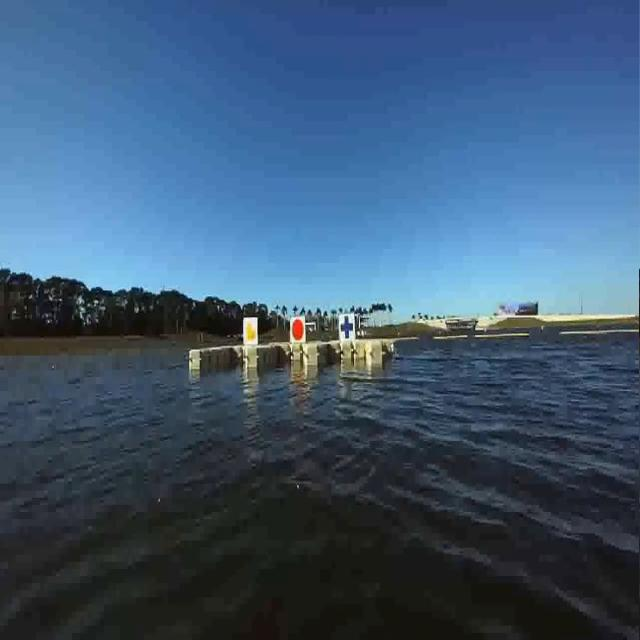blue-cross: (339, 311, 356, 343)
red-dot: (287, 314, 308, 344)
yellow-duck: (246, 321, 256, 338)
